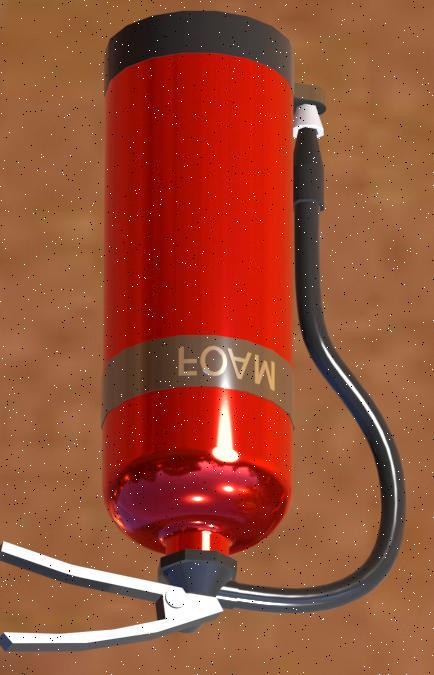Fire Extinguisher: (0, 10, 426, 675)
